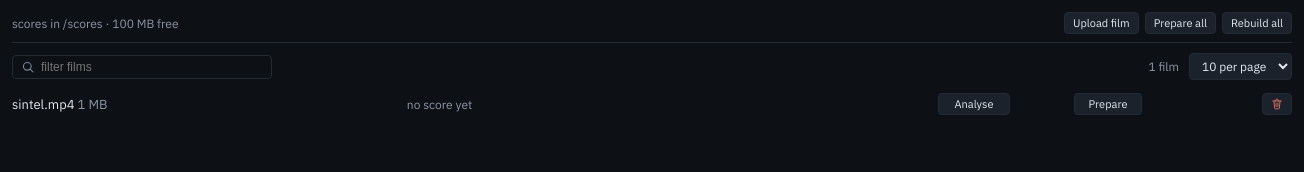
filtering › says so when nothing matches, rather than showing an empty table
Type "zzz" into the field labelled "filter films" at (152, 66), box [41, 56, 263, 78]
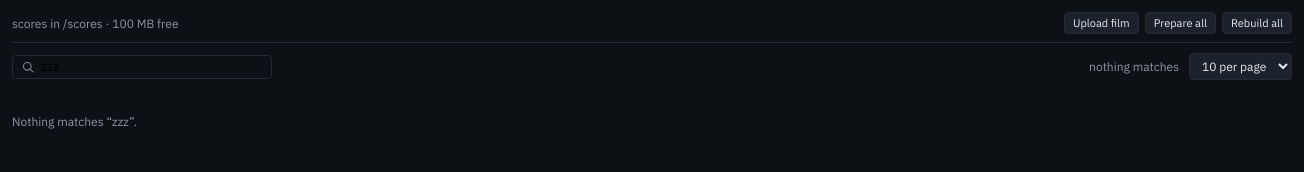
Expected: the text "Nothing matches “zzz”." is shown, [12, 114, 137, 129]
